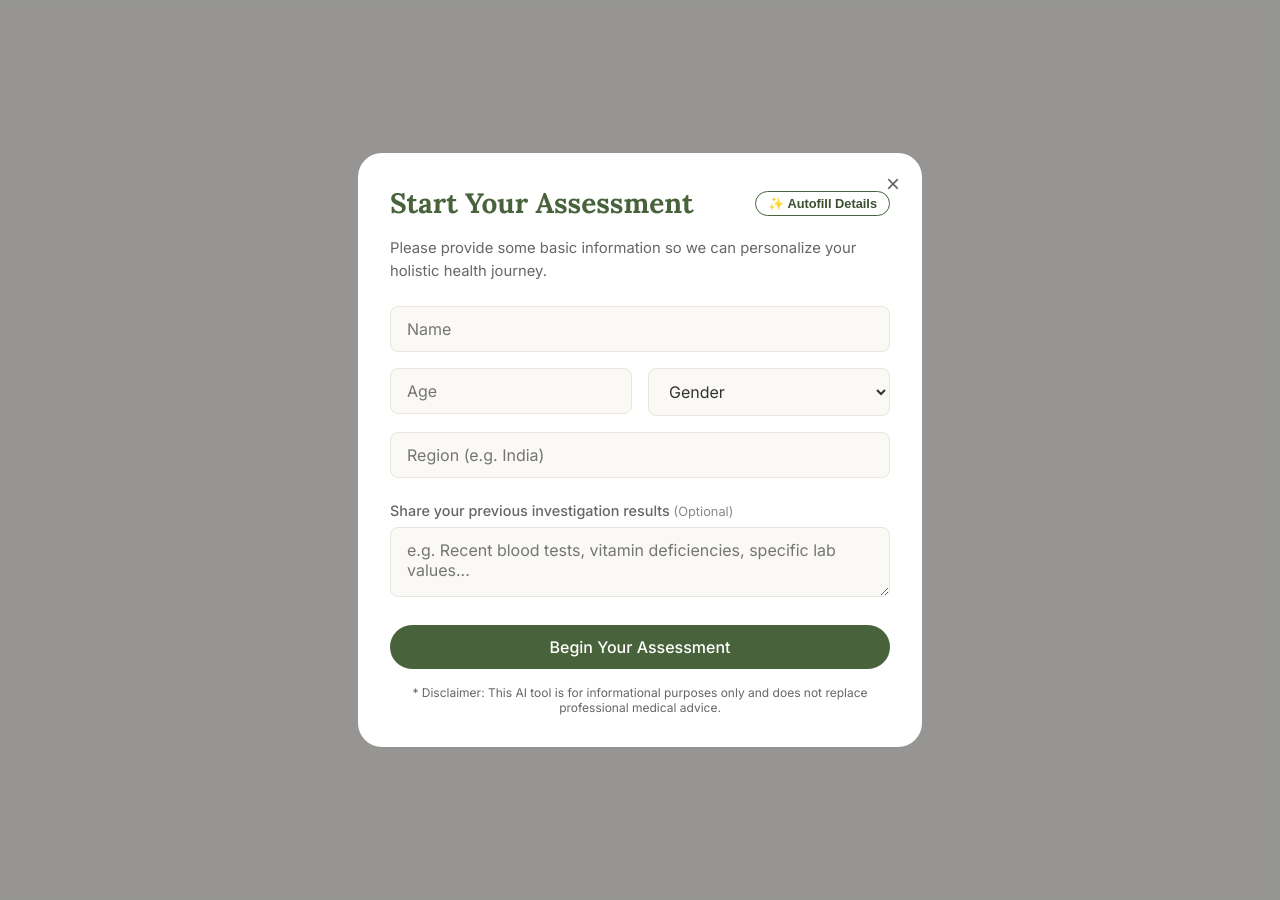
Test: PatientFormModal Component › shows notice when Autofill Details button is clicked with no saved profile
Click the button "✨ Autofill Details": (823, 203) [755,191,890,216]
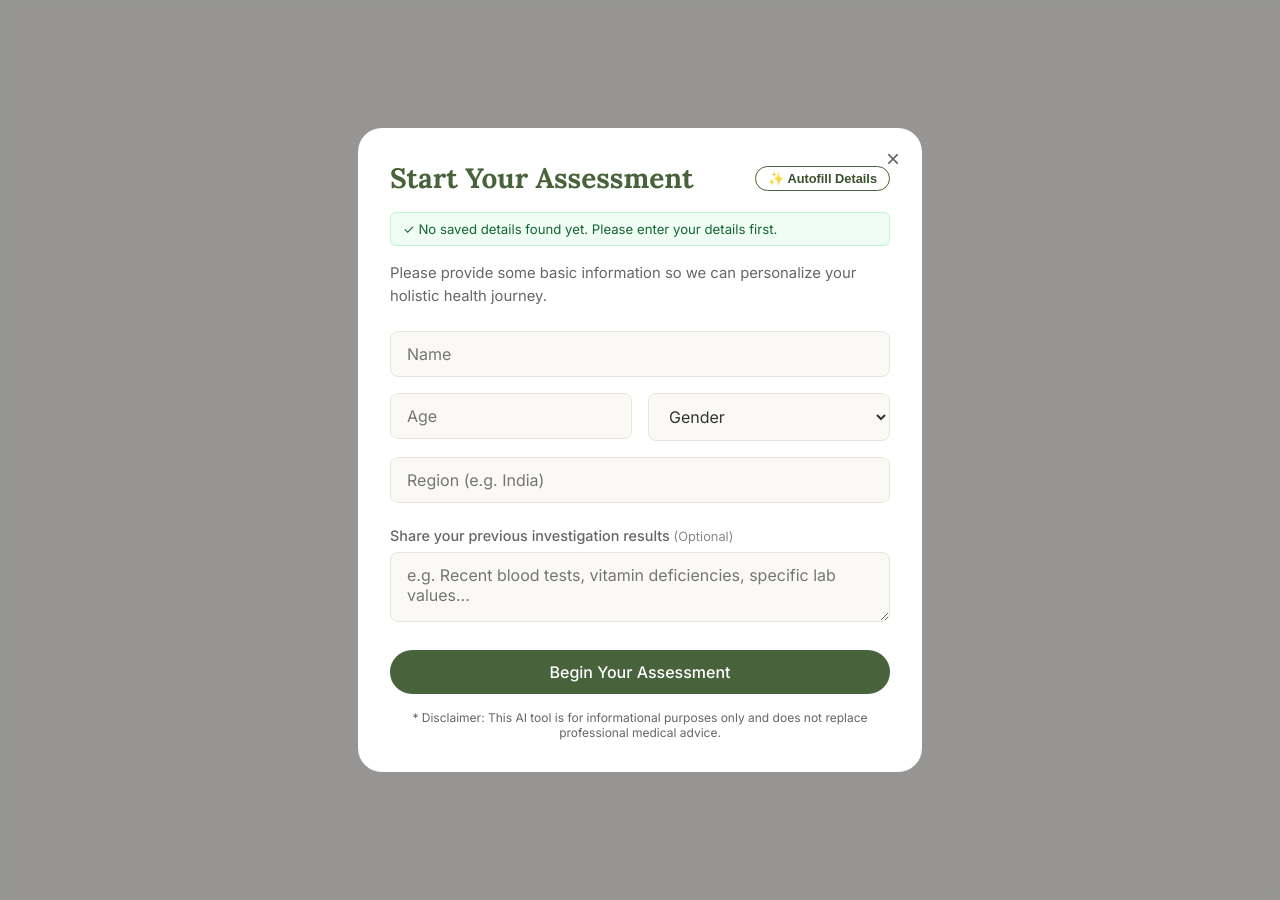
Now the text "No saved details found yet" is shown, box [418,221,777,237]
